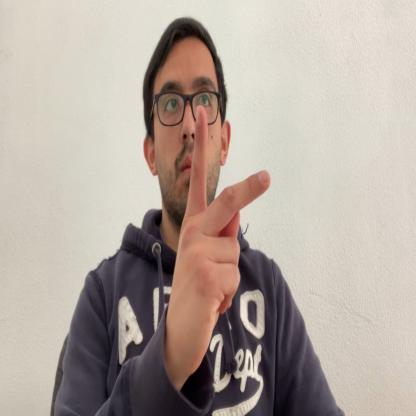P: (168, 105, 271, 377)
